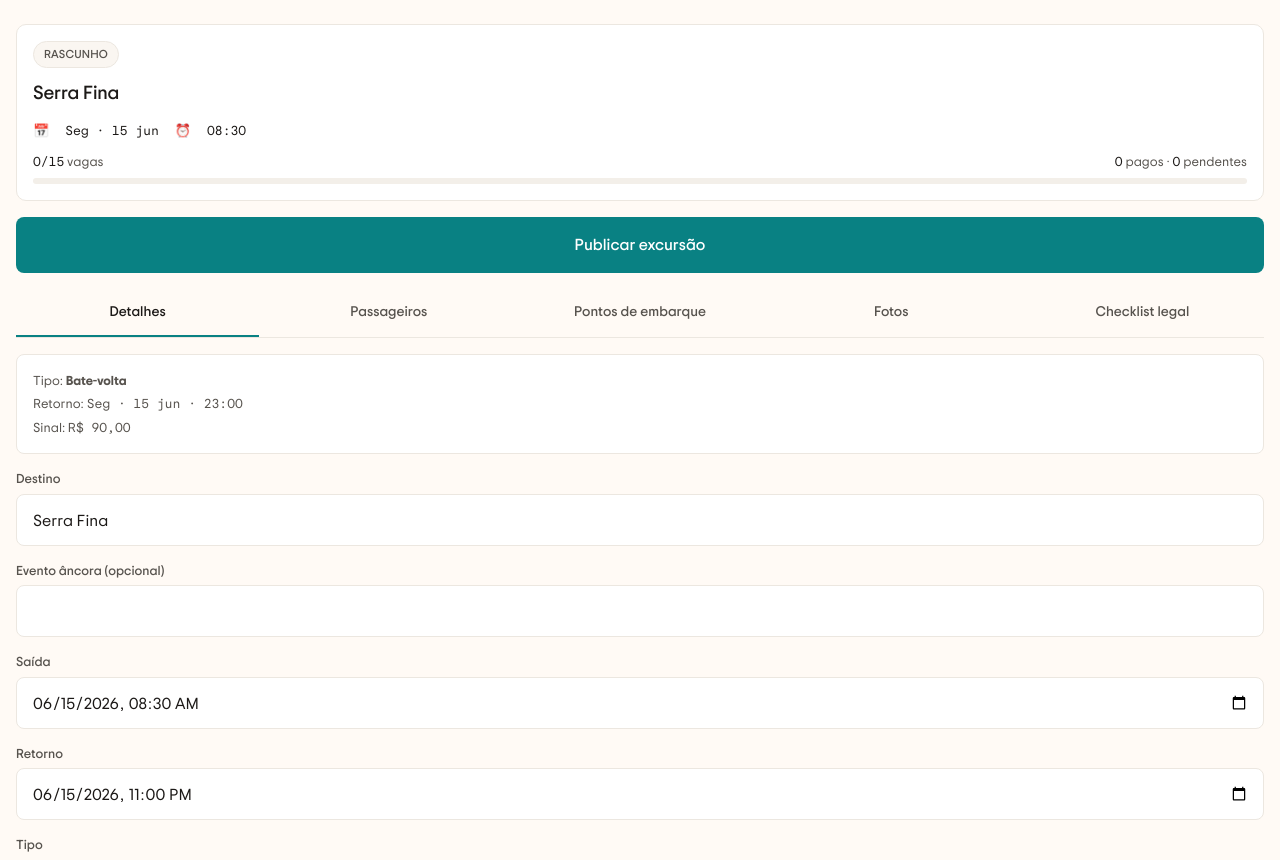
Test: ExcursaoDetalhePage › bloqueia a publicação sem ponto de embarque e leva para a aba de pontos
Check: the text "Serra Fina" is shown, box x1=33 y1=84 x2=119 y2=103
Click the button "Publicar excursão". click: (640, 245)
box: x1=16 y1=217 x2=1264 y2=273
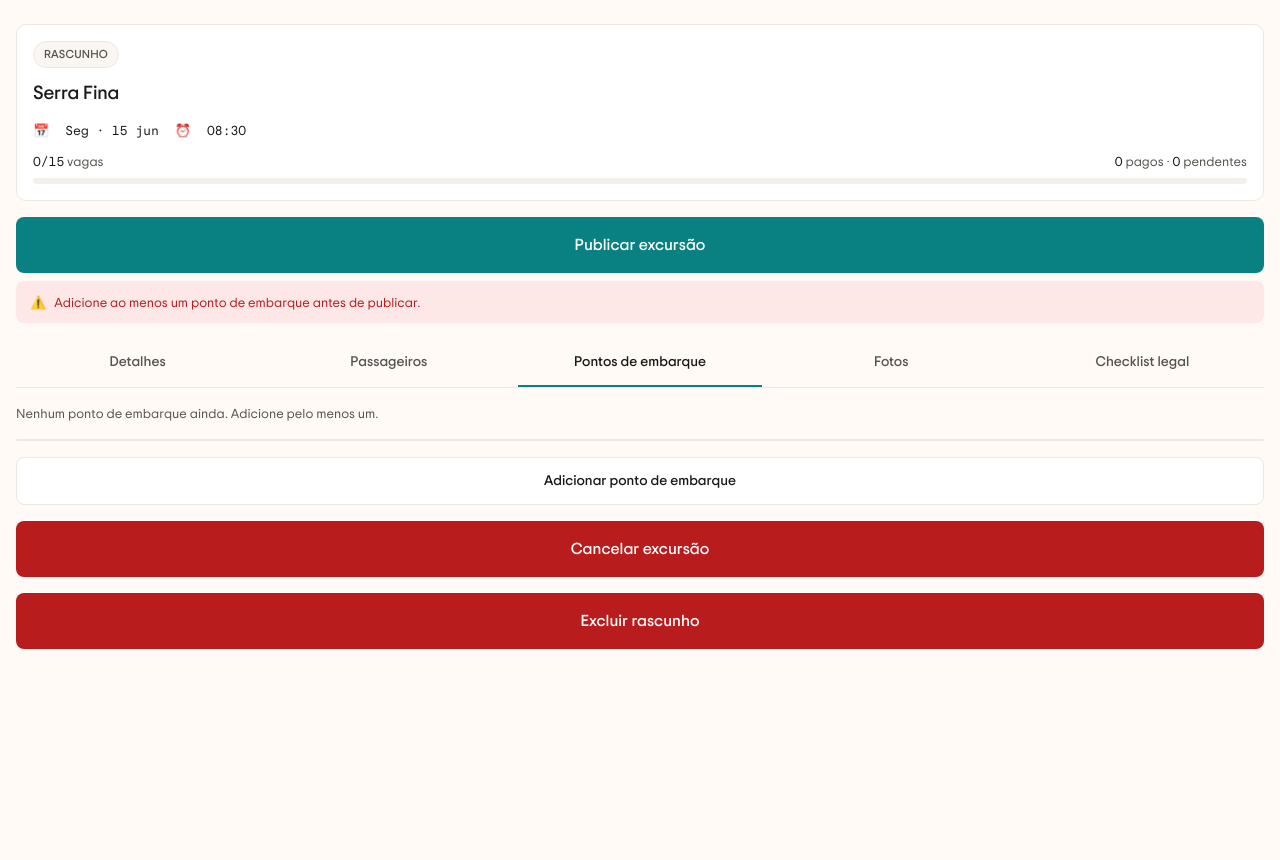
Check: the text "Adicione ao menos um ponto de embarque antes de publicar." is shown, box x1=54 y1=293 x2=420 y2=311
